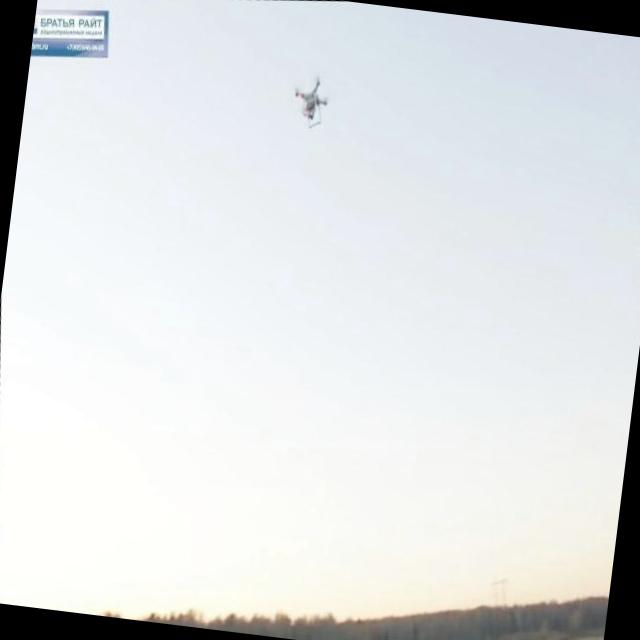drone: (287, 68, 332, 129)
